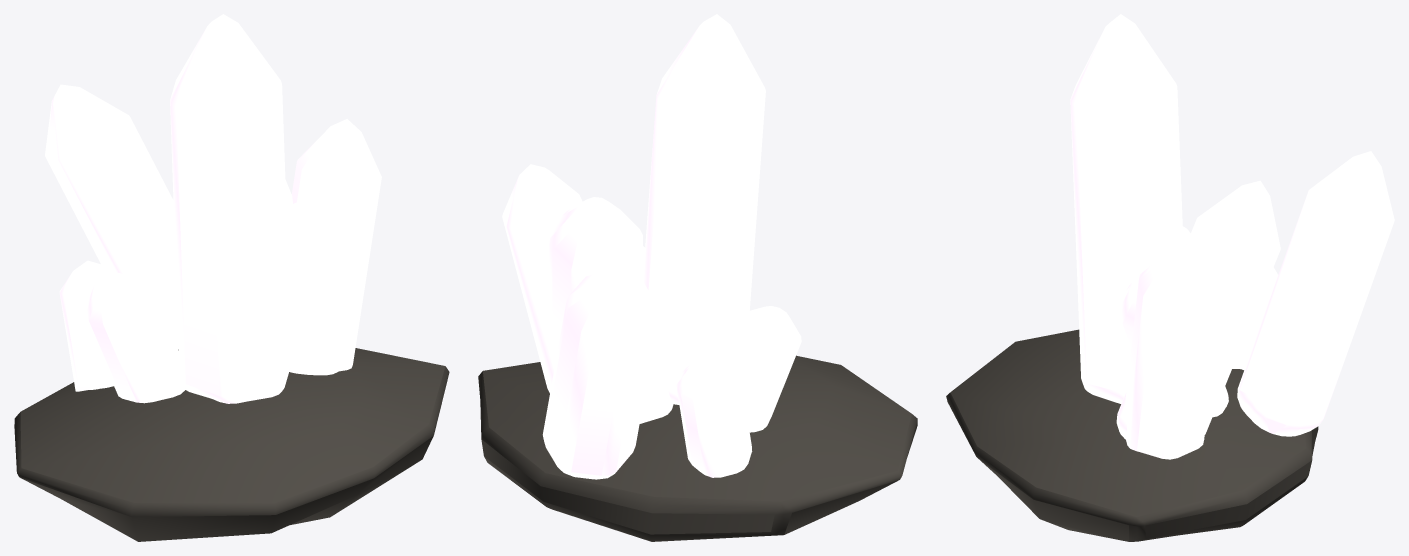
File: leuchtkristall.fbx
3 views of the same model, side by side, from view 1: azimuth 30°, elevation 25°; view 2: azimuth 150°, elevation 25°; view 3: azimuth 270°, elevation 25° (orthographic). The views are drawn at different scales.
Visible parts, largest first — view 1: leuchtkristall_Koerper; view 2: leuchtkristall_Koerper; view 3: leuchtkristall_Koerper.
Part boxes in pixels (x1,y1,x2,y2): leuchtkristall_Koerper: (14, 14, 449, 541); leuchtkristall_Koerper: (478, 14, 917, 541); leuchtkristall_Koerper: (946, 14, 1394, 541).
Bounding box in the file's own units: 1.32 × 1.43 × 1.24.
